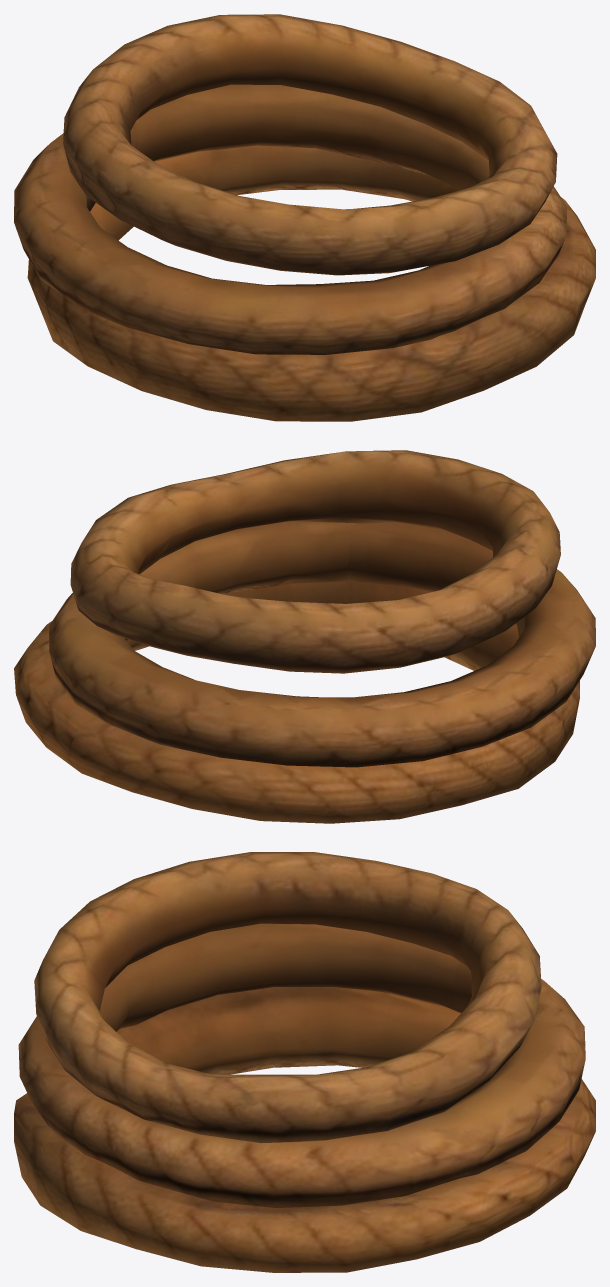
The model's file is anchor_cable.glb.
The picture shows the model from 3 angles, top to bottom: view 1: azimuth 30°, elevation 25°; view 2: azimuth 150°, elevation 25°; view 3: azimuth 270°, elevation 25°; orthographic projection. The views are drawn at different scales.
Visible parts, largest first — view 1: cable; view 2: cable; view 3: cable.
Part boxes in pixels (bbox=[...]): cable: bbox=[14, 14, 595, 421]; cable: bbox=[14, 450, 595, 823]; cable: bbox=[14, 852, 595, 1272].
Size of the model in its own units: 0.9 by 0.3739 by 0.8667.
Materials: 1 (1 with a texture image).
